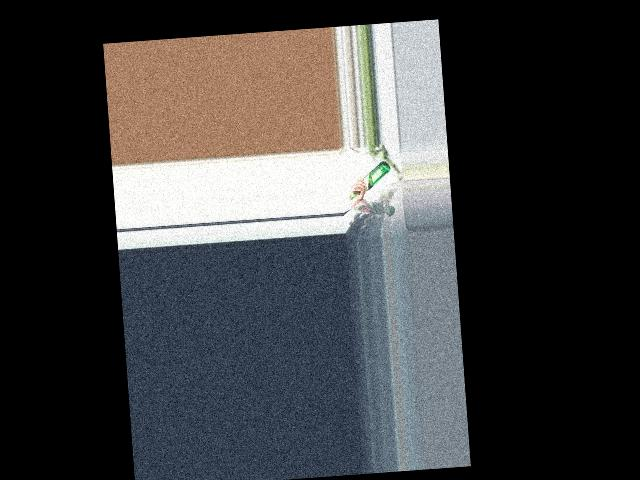beer: (347, 161, 393, 200)
